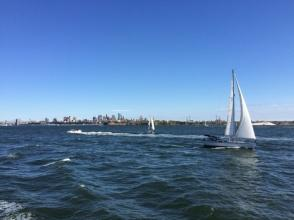fanchuan: (198, 69, 265, 150), (146, 110, 158, 136)
